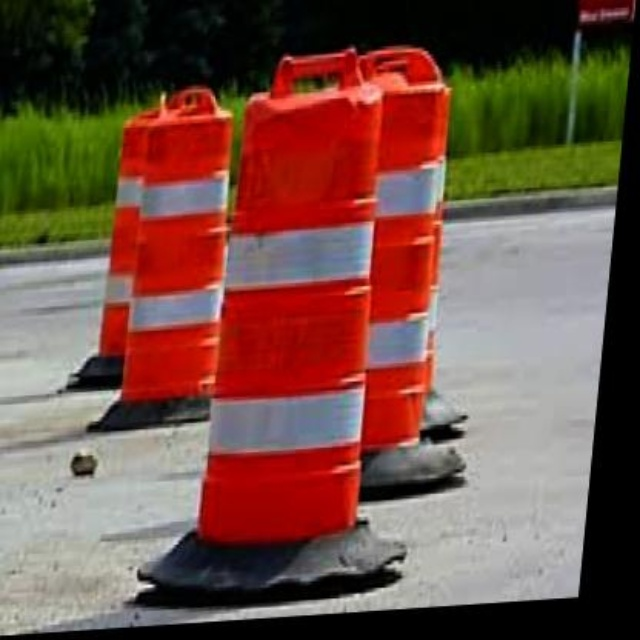obstacle: (201, 51, 413, 551), (131, 94, 245, 403)
